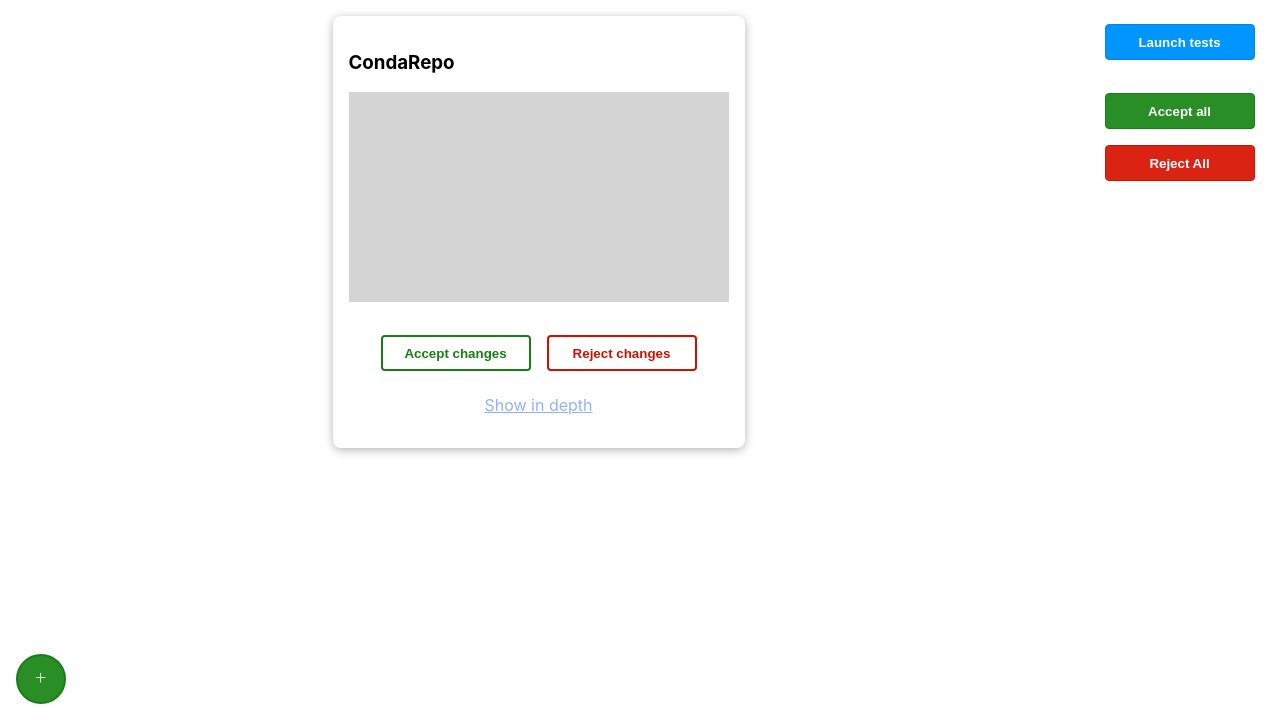
Scenario: accept/refuse one test
What coordinates should you click on to do the following:
click the button "Accept changes"
I would click on:
 (456, 353)
Its box is 380,335 -> 530,371.
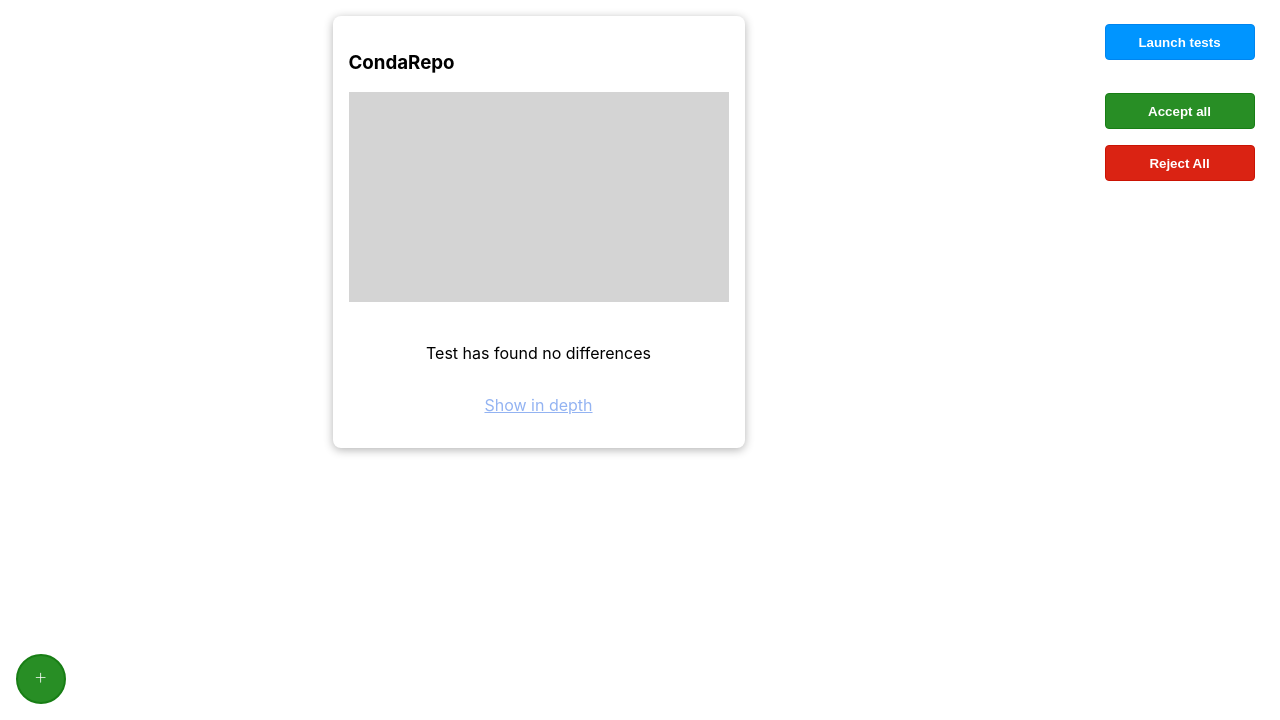
Expected: the text with test id "noDiffParagraph" reads "Test has found no differences", 426,343 -> 651,363
